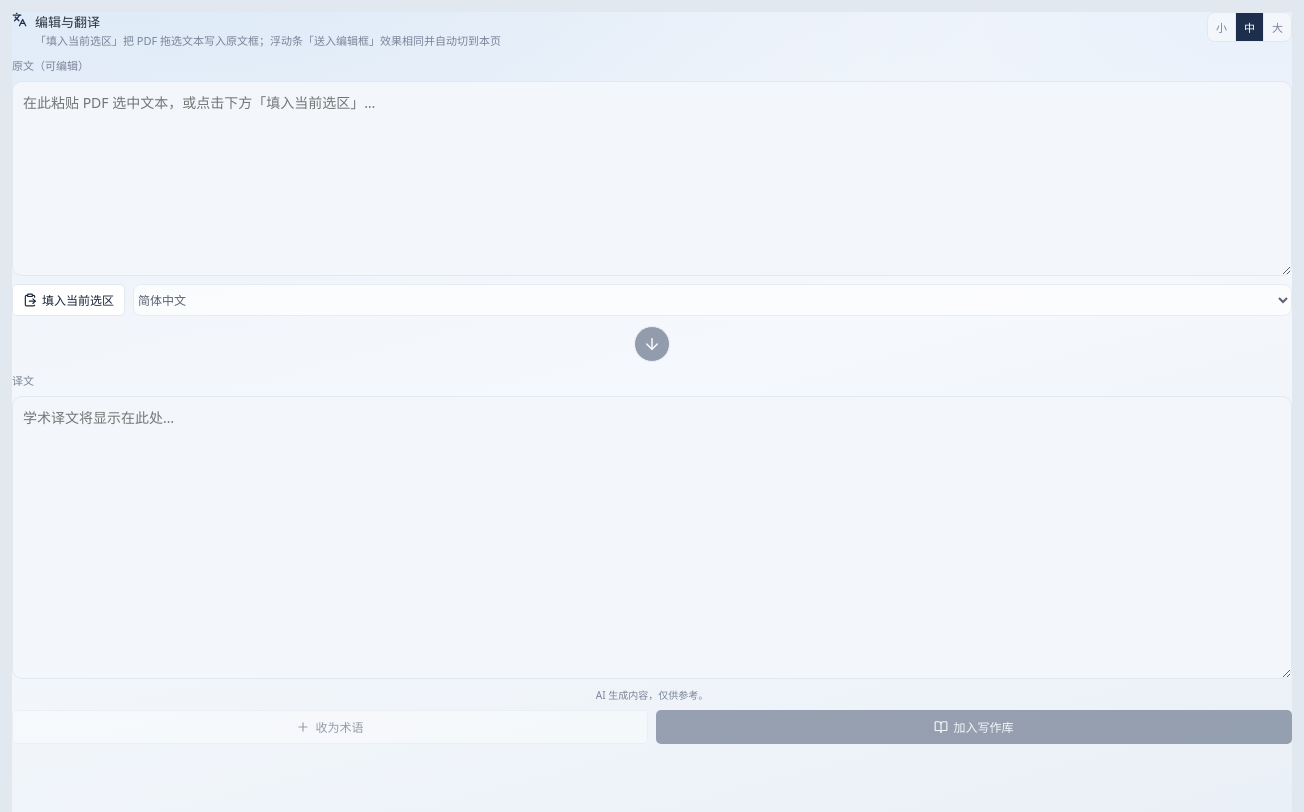
study clip saving › shows a writing excerpt save error
In the text box labelled "原文（可编辑）": (652, 179) [12,81,1292,276], type "attention mechanism"
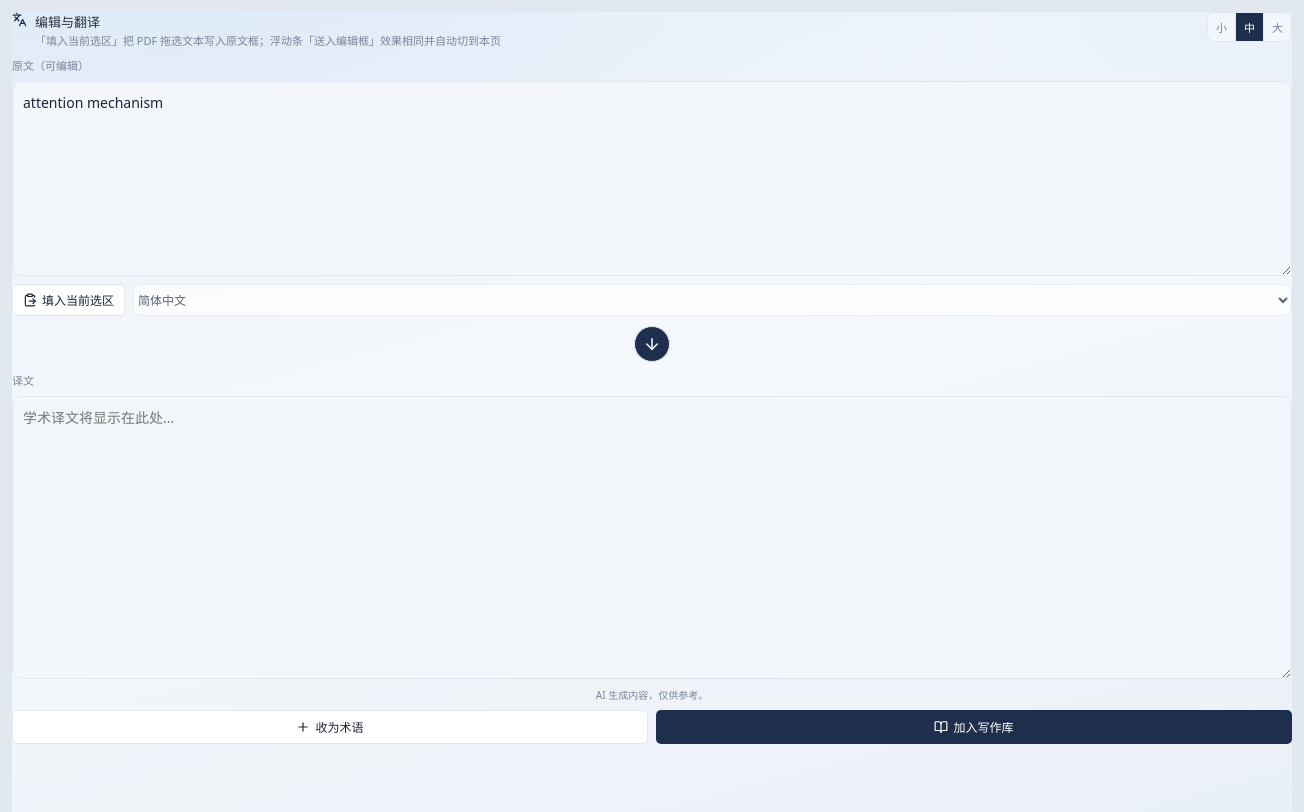
Click the button "加入写作库": (974, 727) [656,710,1292,744]
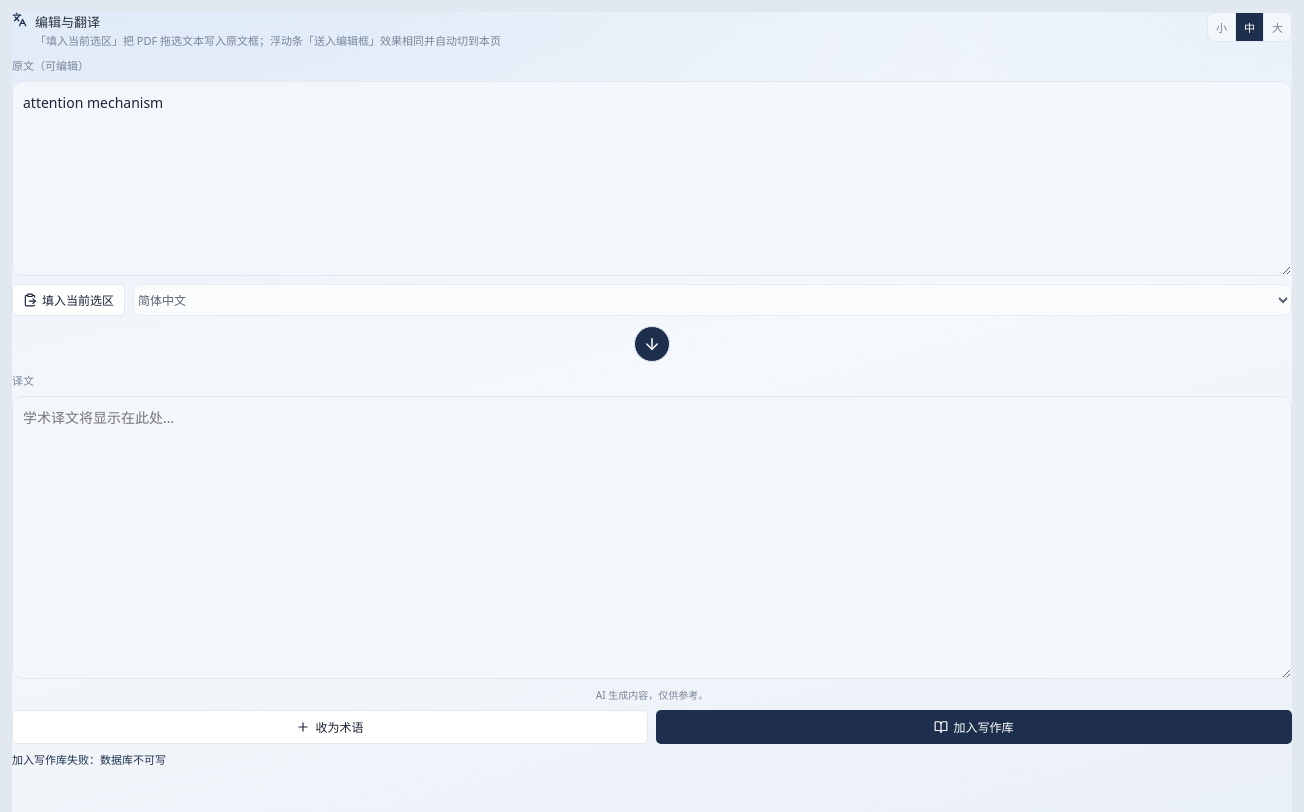
Now the text "加入写作库失败：数据库不可写" is shown, box [12,752,166,767]
